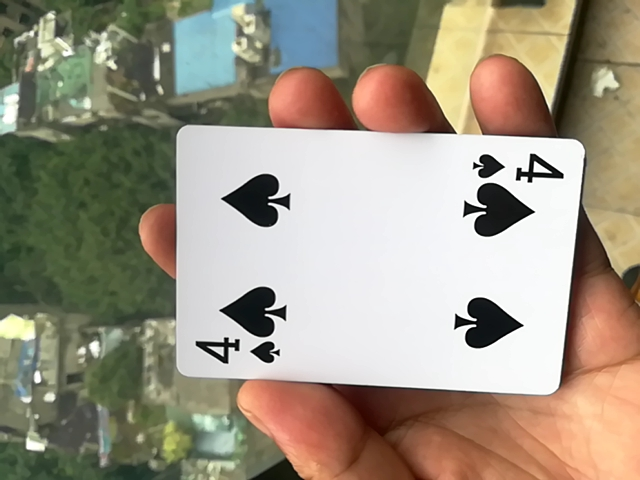ht 4: (160, 128, 579, 401)
